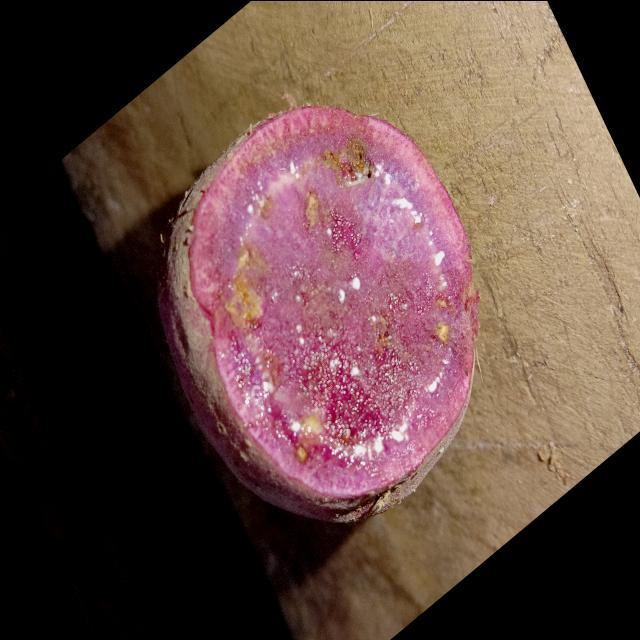Sick Sweet Potato_Tuber Rot: (190, 105, 479, 497)
